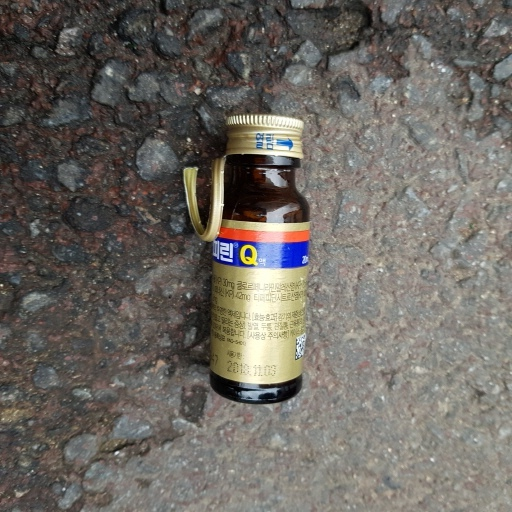Glass_3: (189, 107, 324, 408)
